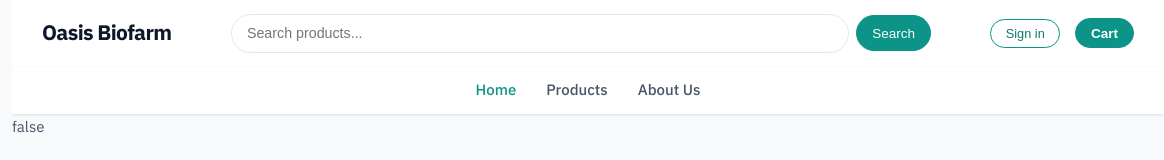
Test: Navbar › the cart button when signed out › opens the sidebar - the basket is local-first and open to guests
What coordinates should you click on to do the following:
click the button "Cart"
I would click on:
 (1104, 33)
Its box is [1075,18,1134,48].
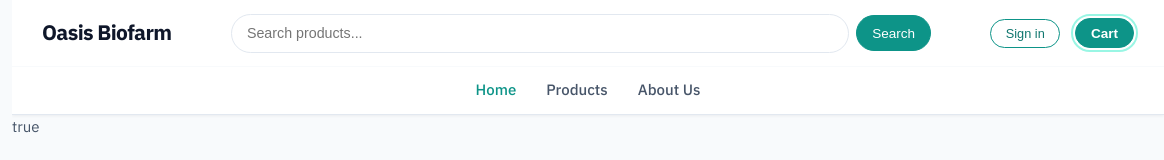
Expected: the text with test id "cart-open" reads "true", [12,116,40,136]
